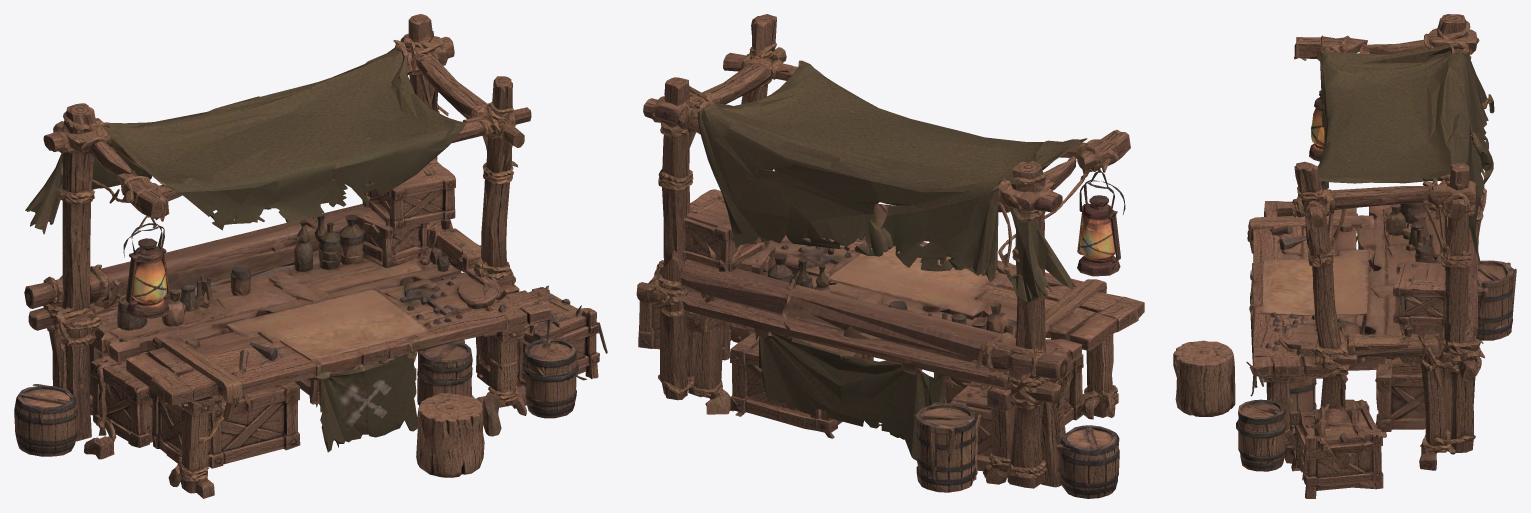
The model's file is CampWorkbench.glb.
3 views of the same model, side by side, from view 1: azimuth 30°, elevation 25°; view 2: azimuth 150°, elevation 25°; view 3: azimuth 270°, elevation 25° (orthographic). The views are drawn at different scales.
Parts seen in each view (by area): view 1: Part11, Part10, Part01, Part00; view 2: Part00, Part11, Part10, Part01; view 3: Part11, Part00, Part10, Part01.
Part boxes in pixels (x1,y1,x2,y2): Part11: (14,31,587,481); Part10: (15,14,607,498); Part01: (14,20,599,498); Part00: (21,40,606,479); Part00: (638,14,1124,492); Part11: (638,47,1130,494); Part10: (636,55,1144,498); Part01: (646,51,1122,486); Part11: (1175,14,1512,474); Part00: (1173,14,1516,490); Part10: (1238,33,1510,480); Part01: (1176,14,1516,498).
Size of the model in its own units: 1.88 by 1.12 by 1.19.
Materials: 4 (4 with a texture image).
